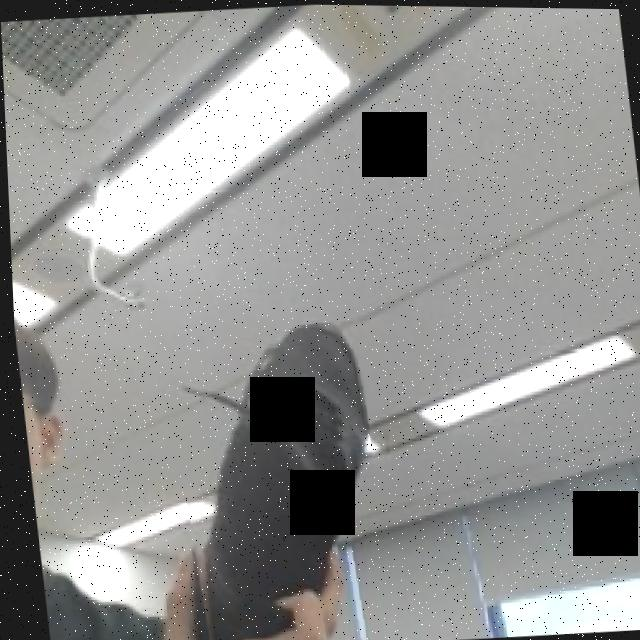shoe: (154, 317, 387, 640)
